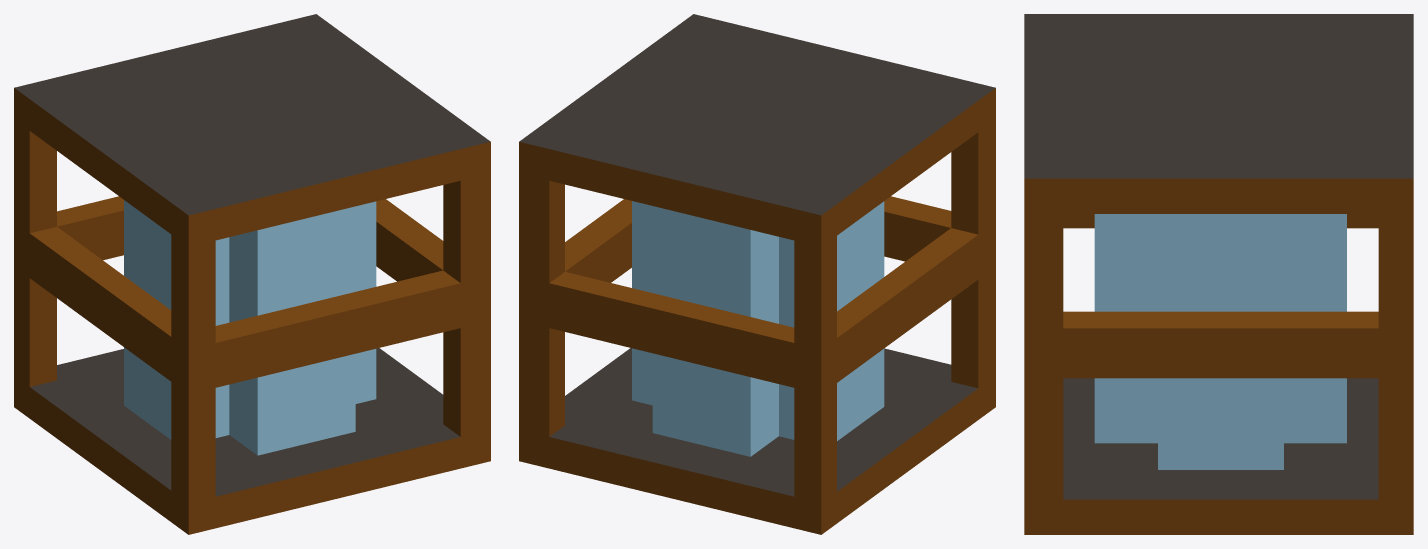
File: lowTowerMiddle.fbx
The picture shows the model from 3 angles, left to right: view 1: azimuth 30°, elevation 25°; view 2: azimuth 150°, elevation 25°; view 3: azimuth 270°, elevation 25°; orthographic projection. The views are drawn at different scales.
Visible parts, largest first — view 1: pCube1; view 2: pCube1; view 3: pCube1.
Part boxes in pixels (<box>): pCube1: <box>14,14,490,534</box>; pCube1: <box>519,14,995,534</box>; pCube1: <box>1024,14,1413,534</box>.
Bounding box in the file's own units: 10 × 10.1 × 10.
1 material, 1 textured.
